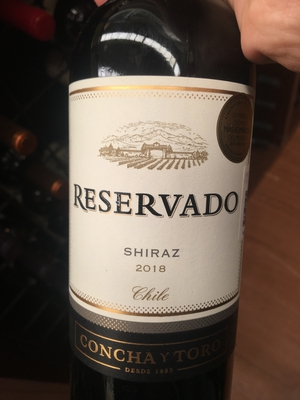reservado shiraz: (53, 25, 257, 400)
